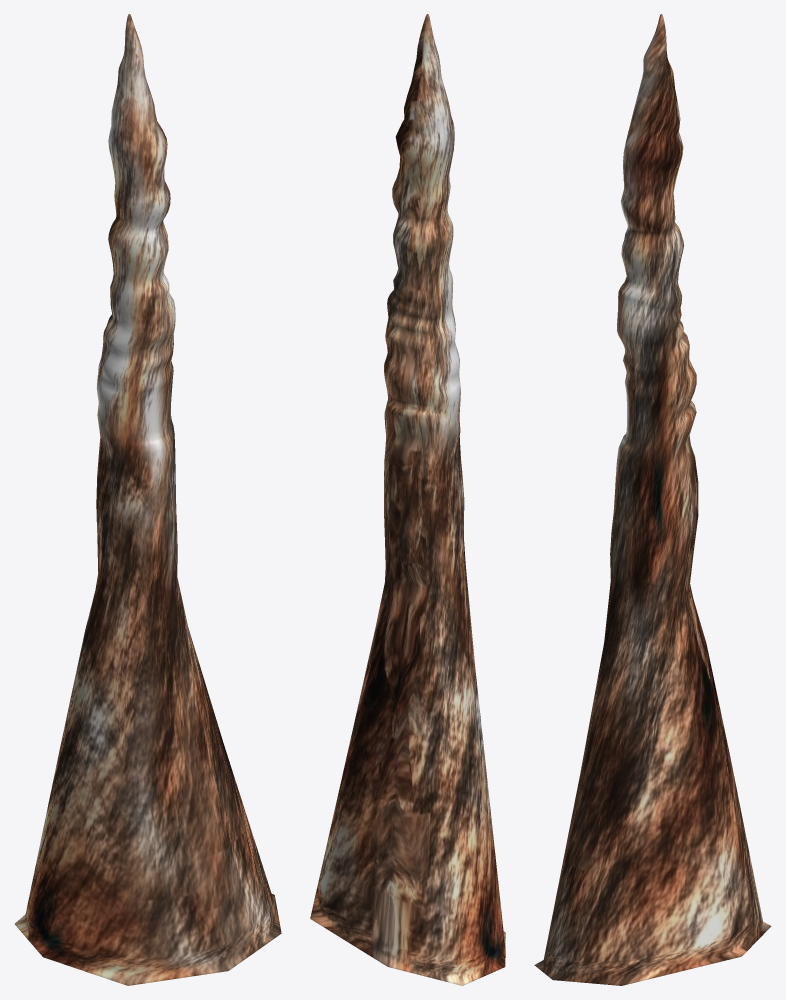
Rendered from Stalagmite Textured.fbx.
3 views of the same model, side by side, from view 1: azimuth 30°, elevation 25°; view 2: azimuth 150°, elevation 25°; view 3: azimuth 270°, elevation 25° (orthographic).
Parts seen in each view (by area): view 1: polySurface3; view 2: polySurface3; view 3: polySurface3.
Part boxes in pixels (bbox=[...]): polySurface3: bbox=[15, 14, 281, 985]; polySurface3: bbox=[310, 14, 505, 985]; polySurface3: bbox=[534, 14, 771, 985].
Size of the model in its own units: 0.228 by 0.9805 by 0.2226.
1 material, 1 textured.
